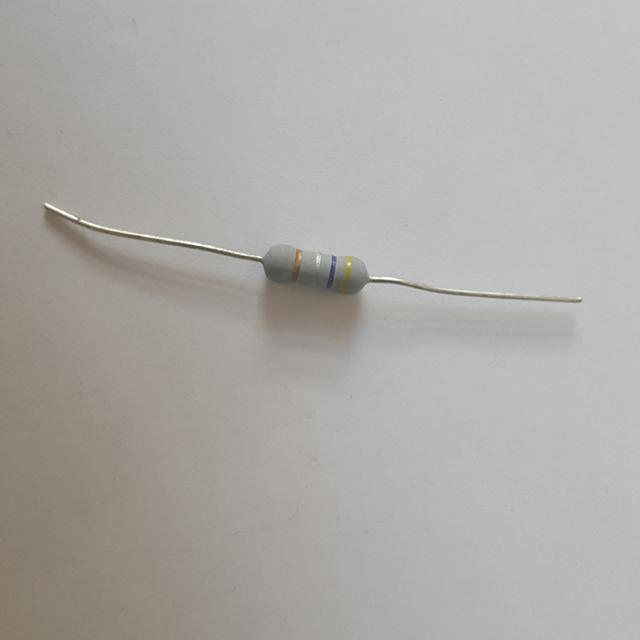Resistor Carbon-Film: (256, 241, 376, 298)
